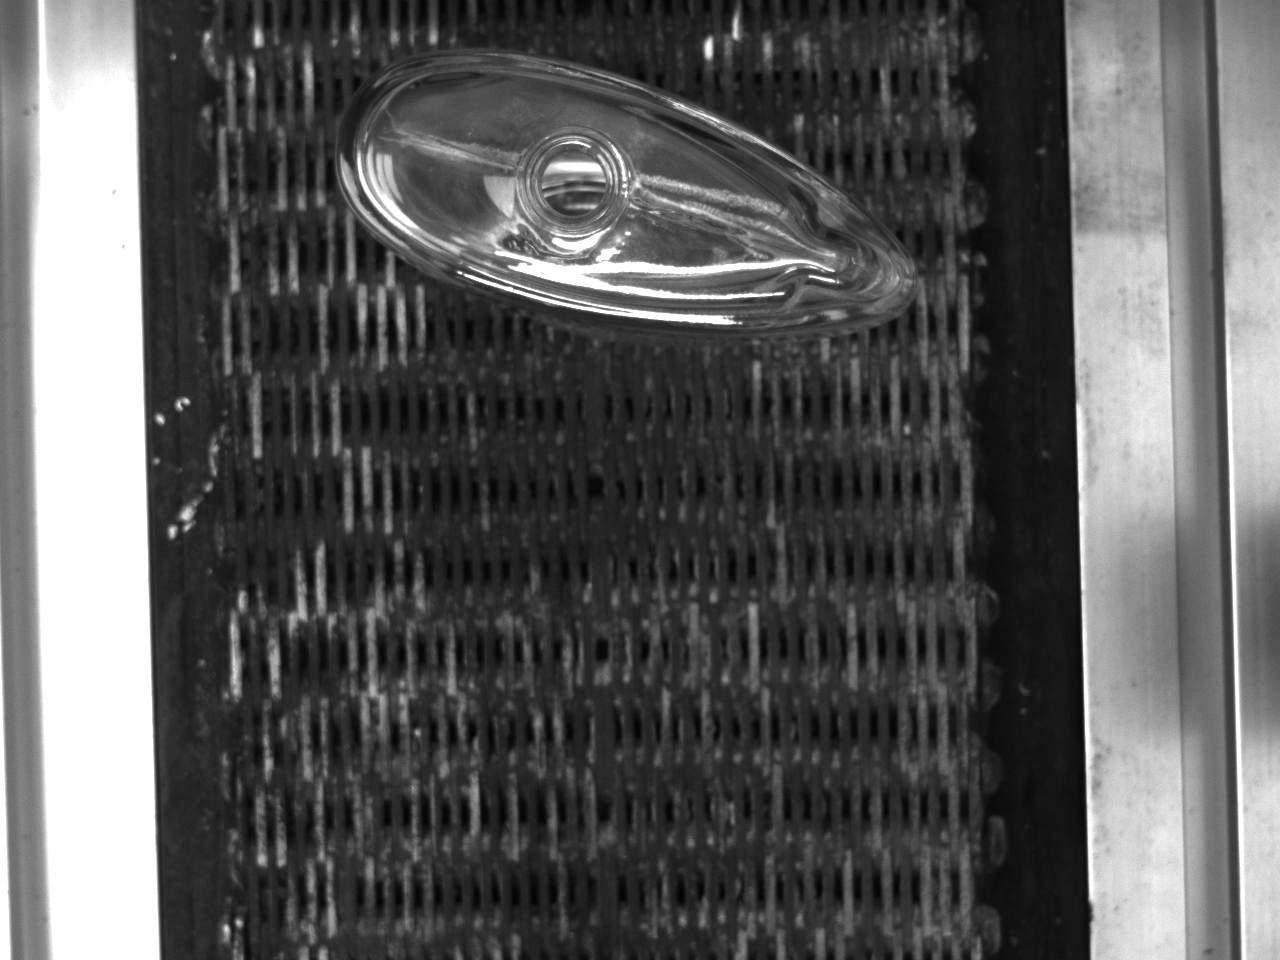bottleneck: (519, 126, 629, 239)
